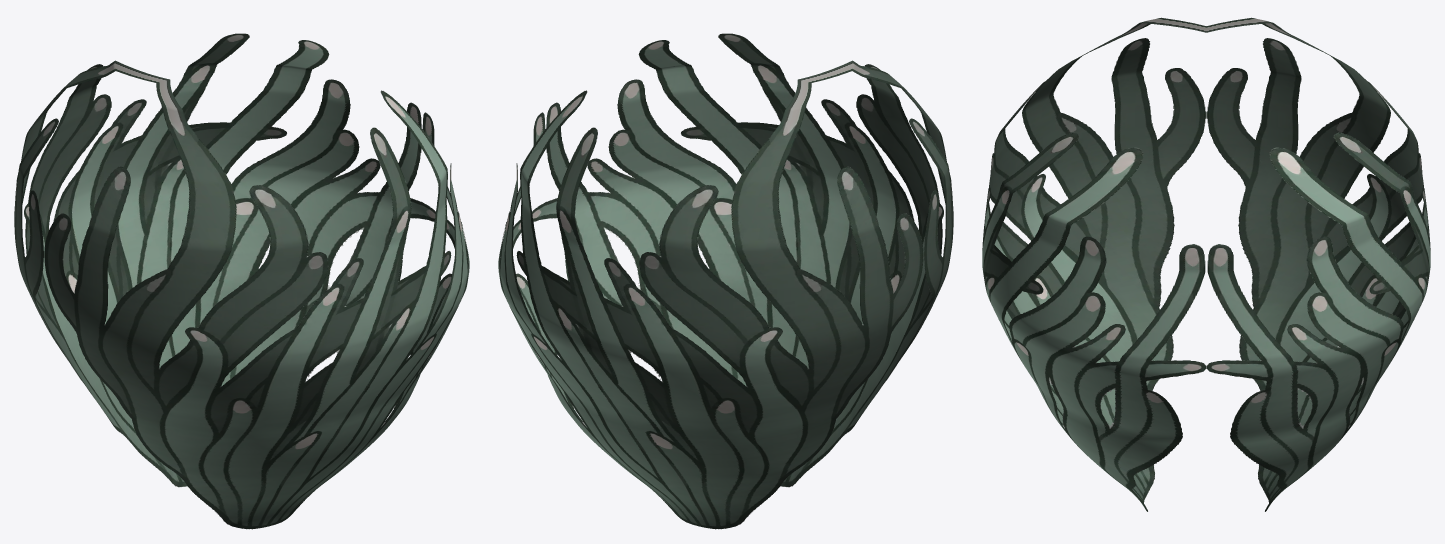
Rendered from ribbon_seagrass.glb.
3 views of the same model, side by side, from view 1: azimuth 30°, elevation 25°; view 2: azimuth 150°, elevation 25°; view 3: azimuth 270°, elevation 25° (orthographic).
Parts seen in each view (by area): view 1: ribbon_seagrass; view 2: ribbon_seagrass; view 3: ribbon_seagrass.
Boxes of the visible parts, x1,y1,x2,y2 form: ribbon_seagrass: (14, 33, 469, 529); ribbon_seagrass: (498, 33, 953, 529); ribbon_seagrass: (982, 17, 1430, 511).
Size of the model in its own units: 1 by 1.07 by 0.9875.
Materials: 1 (1 with a texture image).
